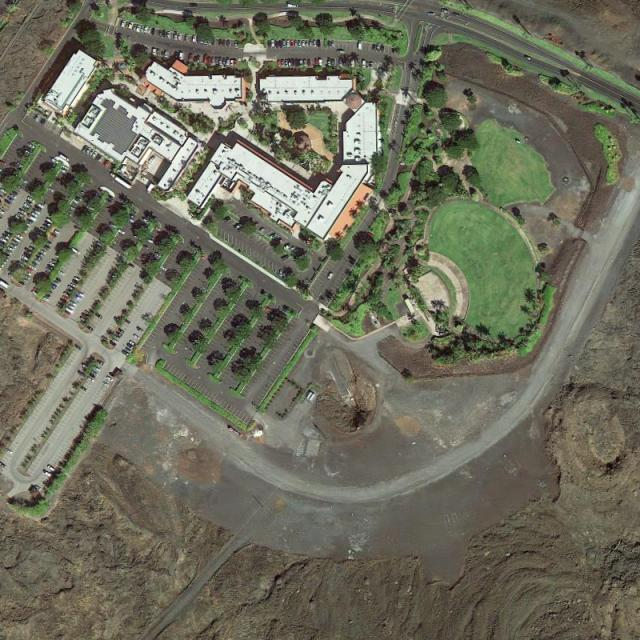vehicle: (43, 470, 54, 478), (96, 241, 105, 250), (128, 339, 138, 347), (71, 247, 81, 255), (93, 366, 102, 374), (264, 306, 273, 314), (68, 204, 77, 212), (27, 142, 36, 150), (109, 222, 118, 230), (91, 150, 98, 160), (48, 464, 56, 472), (115, 330, 123, 338), (46, 287, 54, 295), (38, 252, 46, 260), (22, 255, 30, 263), (18, 230, 26, 238), (14, 214, 22, 222), (4, 198, 12, 206), (26, 198, 34, 206), (24, 202, 32, 210), (126, 343, 135, 350), (74, 344, 83, 351), (121, 350, 130, 357), (73, 225, 82, 232), (453, 12, 462, 19), (76, 291, 85, 298), (27, 196, 36, 203), (102, 381, 110, 388), (137, 327, 145, 334), (133, 334, 141, 341), (97, 359, 105, 366), (82, 363, 90, 370), (78, 370, 86, 377), (282, 255, 290, 262), (327, 272, 334, 280), (14, 183, 22, 190), (88, 149, 95, 157), (81, 146, 88, 154), (34, 258, 42, 265), (29, 264, 37, 271), (24, 270, 32, 277), (47, 264, 55, 271), (43, 269, 51, 276), (36, 255, 44, 262), (38, 230, 46, 237), (43, 244, 51, 251), (21, 259, 29, 266), (18, 262, 26, 269), (50, 233, 58, 240), (50, 282, 57, 290), (2, 254, 10, 261), (74, 295, 82, 302), (70, 301, 78, 308), (66, 307, 74, 314), (83, 310, 91, 317), (86, 325, 94, 332), (67, 285, 75, 292), (70, 282, 78, 289), (58, 270, 66, 277), (1, 257, 8, 265), (143, 218, 151, 225), (129, 214, 137, 221), (17, 162, 25, 169), (81, 190, 89, 197), (62, 164, 70, 171), (11, 189, 19, 196), (6, 231, 14, 238), (34, 204, 42, 211), (26, 218, 34, 225), (24, 221, 32, 228), (10, 242, 18, 249), (18, 212, 26, 219), (10, 193, 18, 200), (22, 206, 30, 213), (34, 484, 42, 491), (150, 27, 156, 36), (147, 26, 153, 35), (133, 235, 142, 241), (441, 9, 450, 15), (380, 44, 386, 53), (22, 274, 31, 280), (46, 218, 55, 224), (51, 280, 60, 286), (3, 252, 12, 258), (126, 218, 135, 224), (55, 178, 64, 184), (350, 58, 355, 68), (81, 386, 88, 393), (125, 347, 132, 354), (114, 334, 121, 341), (125, 318, 132, 325), (235, 223, 242, 230), (98, 156, 105, 163), (94, 154, 101, 161), (85, 147, 92, 154), (18, 279, 25, 286), (40, 226, 47, 233), (26, 248, 33, 255), (62, 295, 69, 302), (128, 262, 135, 269), (66, 289, 73, 296), (106, 198, 113, 205), (3, 234, 10, 241), (1, 237, 8, 244), (12, 239, 19, 246), (118, 328, 126, 334), (5, 448, 13, 454), (106, 376, 114, 382), (258, 228, 266, 234), (284, 244, 292, 250), (132, 24, 138, 32), (121, 20, 127, 28), (160, 266, 168, 272), (154, 226, 162, 232), (524, 56, 532, 62), (26, 267, 34, 273), (32, 290, 38, 298), (40, 250, 48, 256), (28, 246, 36, 252), (42, 224, 50, 230), (55, 304, 63, 310), (96, 313, 104, 319), (72, 278, 80, 284), (142, 245, 150, 251), (146, 238, 154, 244), (118, 229, 126, 235), (74, 196, 82, 202), (47, 187, 55, 193), (38, 203, 46, 209), (34, 210, 42, 216), (28, 216, 36, 222), (14, 237, 22, 243), (279, 269, 284, 278), (307, 236, 312, 245), (274, 39, 279, 48), (86, 206, 95, 211), (288, 4, 299, 8), (1, 462, 7, 469), (109, 372, 116, 378), (92, 370, 98, 377), (102, 335, 108, 342), (32, 261, 38, 268), (21, 277, 28, 283), (55, 254, 62, 260), (50, 262, 57, 268), (46, 267, 53, 273), (34, 287, 40, 294), (46, 240, 53, 246), (44, 292, 51, 298), (82, 314, 89, 320), (80, 317, 87, 323), (74, 276, 81, 282), (1, 188, 8, 194), (1, 160, 7, 167), (21, 178, 28, 184), (31, 212, 38, 218), (22, 227, 28, 234), (20, 210, 27, 216), (7, 196, 14, 202), (87, 378, 95, 383), (270, 234, 278, 239), (234, 41, 239, 49), (156, 48, 161, 56), (164, 50, 169, 58), (189, 54, 194, 62), (175, 51, 180, 59), (144, 26, 149, 34), (140, 26, 145, 34), (129, 22, 134, 30), (125, 22, 130, 30), (158, 30, 163, 38), (286, 40, 291, 48), (42, 297, 50, 302), (16, 234, 24, 239), (113, 338, 119, 344), (226, 39, 230, 48), (219, 38, 223, 47), (211, 37, 215, 46), (204, 54, 208, 63), (180, 52, 184, 61), (174, 31, 178, 40), (317, 39, 321, 48), (358, 41, 362, 50), (296, 58, 300, 67), (64, 292, 70, 298), (60, 298, 66, 304), (70, 305, 76, 311), (56, 277, 62, 283), (9, 246, 15, 252), (110, 341, 117, 346), (89, 373, 96, 378), (152, 49, 157, 56), (290, 246, 297, 251), (136, 25, 141, 32), (303, 60, 308, 67), (1, 261, 6, 268), (45, 221, 52, 226), (54, 230, 61, 235), (65, 310, 70, 317), (35, 114, 40, 121), (155, 253, 162, 258), (1, 208, 6, 215), (234, 59, 238, 67), (230, 59, 234, 67), (226, 58, 230, 66), (222, 58, 226, 66), (198, 36, 202, 44), (162, 30, 166, 38), (185, 34, 189, 42), (178, 33, 182, 41), (366, 62, 370, 70), (362, 61, 366, 69), (339, 58, 343, 66), (314, 58, 318, 66), (278, 40, 282, 48), (338, 50, 346, 54), (281, 59, 285, 67), (300, 60, 304, 68), (25, 253, 30, 259), (319, 59, 323, 66), (313, 40, 317, 47), (306, 40, 310, 47), (290, 40, 294, 47), (331, 40, 335, 47), (307, 60, 311, 67), (288, 59, 292, 66), (428, 12, 435, 16), (376, 44, 380, 51), (58, 302, 65, 306), (283, 39, 286, 48), (223, 39, 226, 47), (219, 58, 222, 66), (194, 56, 198, 62), (208, 37, 211, 45), (204, 37, 207, 45), (201, 36, 204, 44), (166, 32, 170, 38), (193, 35, 196, 43), (302, 40, 306, 46), (298, 40, 302, 46), (294, 40, 298, 46), (271, 40, 274, 48), (292, 59, 295, 67), (285, 59, 288, 67), (278, 59, 281, 67), (373, 45, 377, 51), (1, 244, 5, 250), (215, 58, 218, 65), (212, 58, 215, 65), (198, 55, 201, 62), (331, 59, 334, 66), (310, 40, 313, 47), (209, 58, 212, 64), (1, 193, 4, 199), (1, 167, 4, 173), (328, 58, 330, 66), (329, 40, 331, 47), (1, 266, 3, 270)
